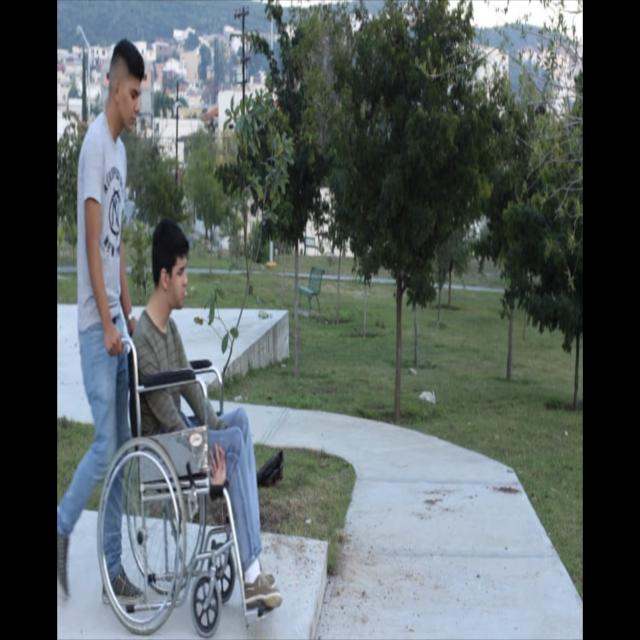wheelchairs: (98, 320, 276, 638)
